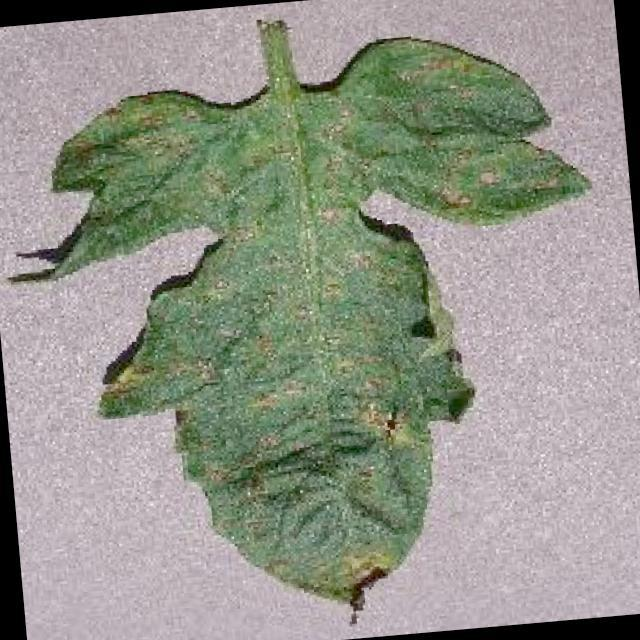Tomato Septoria spot leaf: (0, 21, 633, 640)
